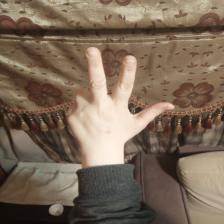three: (68, 48, 176, 156)
